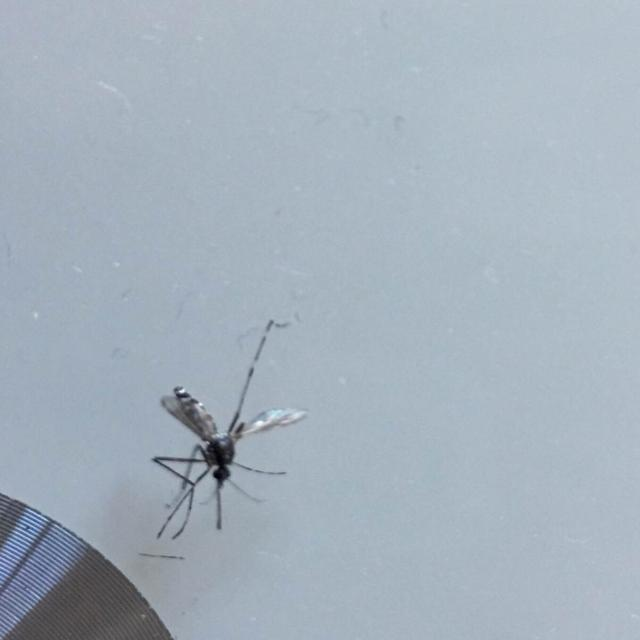albopictus: (130, 316, 308, 551)
